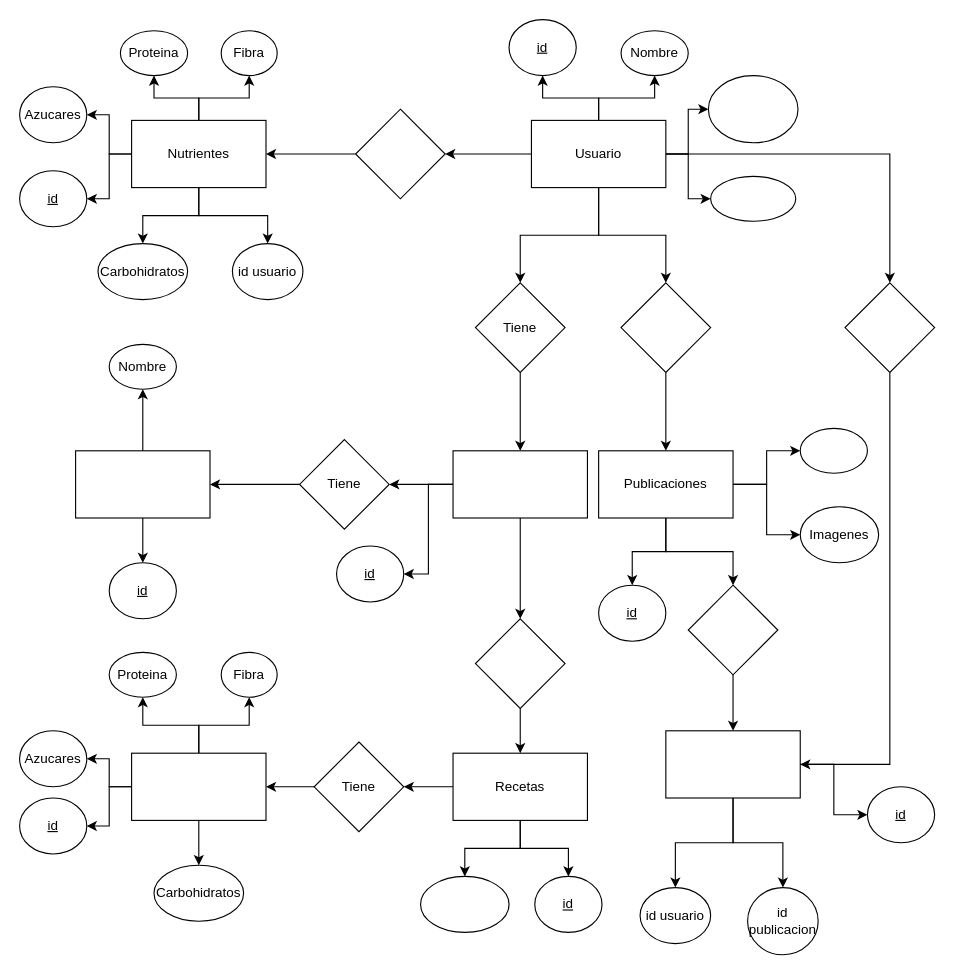
The diagram is 954 pixels wide and 974 high, and some of its shapes have lost their labels. The shapes that lost their labels are listed below. From the top down, each one's box as (x1, y1, x2, y2) in pixels, then its label:
(707, 74, 798, 143): Correo Electronico
(354, 108, 445, 199): Registra
(710, 175, 796, 221): Contraseña
(620, 282, 711, 372): Crean
(844, 282, 935, 372): Dan
(799, 427, 867, 473): Texto
(74, 450, 210, 518): Tipo
(452, 450, 587, 518): Dietas
(687, 584, 778, 675): Tienen
(474, 618, 565, 708): Contiene
(665, 730, 800, 798): Likes
(130, 752, 266, 820): Alimento
(419, 875, 509, 932): Valoracion
